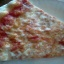pizza: (1, 1, 62, 56)
